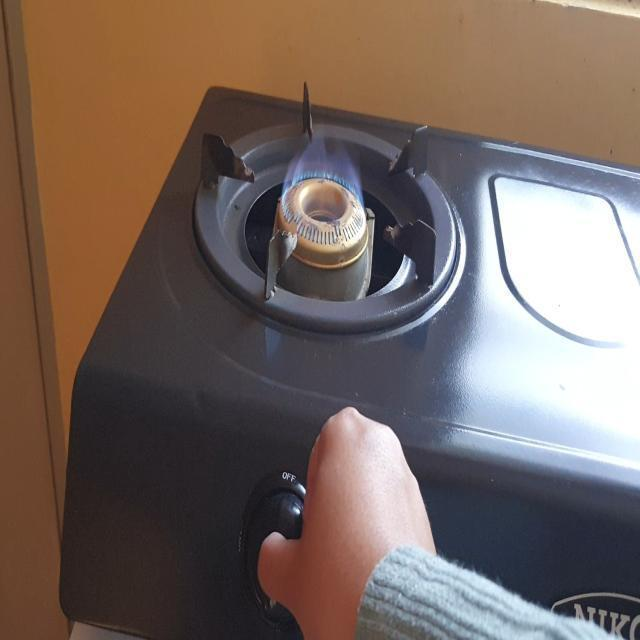smoke: (275, 127, 367, 264)
